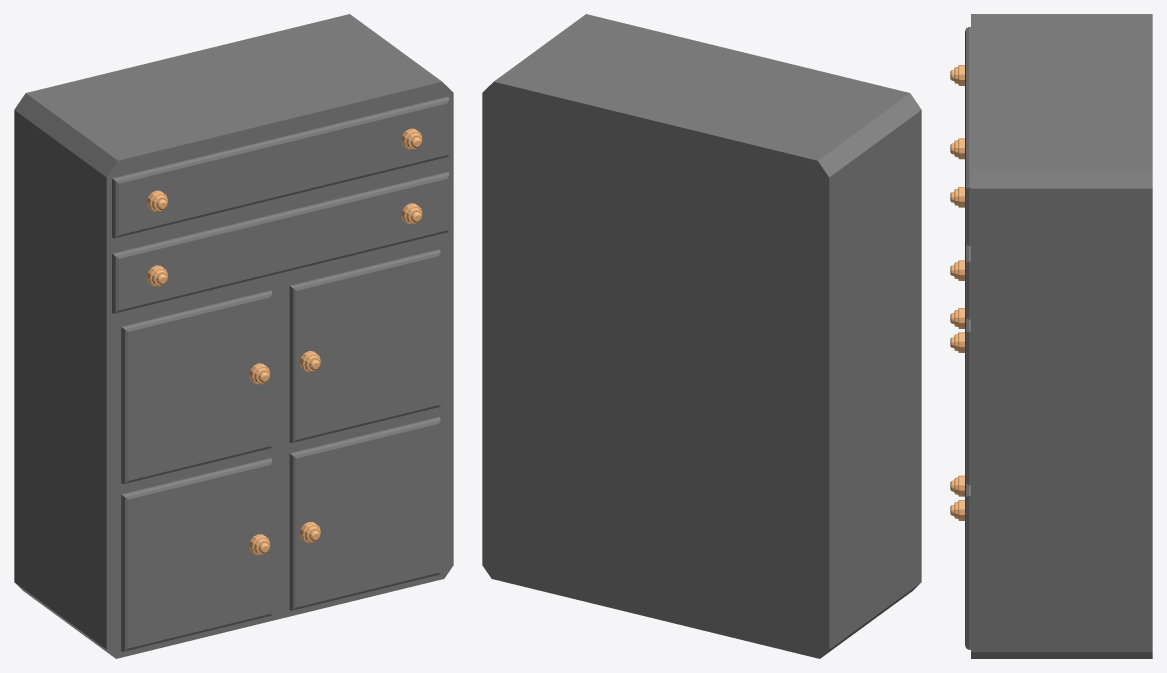
File: Wardrobe_25.fbx
3 views of the same model, side by side, from view 1: azimuth 30°, elevation 25°; view 2: azimuth 150°, elevation 25°; view 3: azimuth 270°, elevation 25° (orthographic).
Visible parts, largest first — view 1: Wardrobe_25, Wardrobe_25 Door_3, Wardrobe_25 Door_4, Wardrobe_25 Door_6, Wardrobe_25 Door_5, Wardrobe_25 Door_2, Wardrobe_25 Door_1; view 2: Wardrobe_25; view 3: Wardrobe_25, Wardrobe_25 Door_1, Wardrobe_25 Door_4, Wardrobe_25 Door_6, Wardrobe_25 Door_2.
Boxes of the visible parts, box(x1,y1,x2,y2) form: Wardrobe_25: box(14, 14, 453, 658); Wardrobe_25 Door_3: box(121, 290, 272, 483); Wardrobe_25 Door_4: box(289, 249, 440, 442); Wardrobe_25 Door_6: box(289, 417, 440, 610); Wardrobe_25 Door_5: box(121, 458, 272, 651); Wardrobe_25 Door_2: box(112, 172, 449, 313); Wardrobe_25 Door_1: box(112, 96, 449, 238); Wardrobe_25: box(482, 14, 921, 658); Wardrobe_25: box(971, 14, 1152, 658); Wardrobe_25 Door_1: box(950, 27, 970, 245); Wardrobe_25 Door_4: box(950, 315, 970, 485); Wardrobe_25 Door_6: box(950, 481, 970, 649); Wardrobe_25 Door_2: box(950, 138, 970, 319).
Size of the model in its own units: 1.12 by 1.54 by 0.5781.
